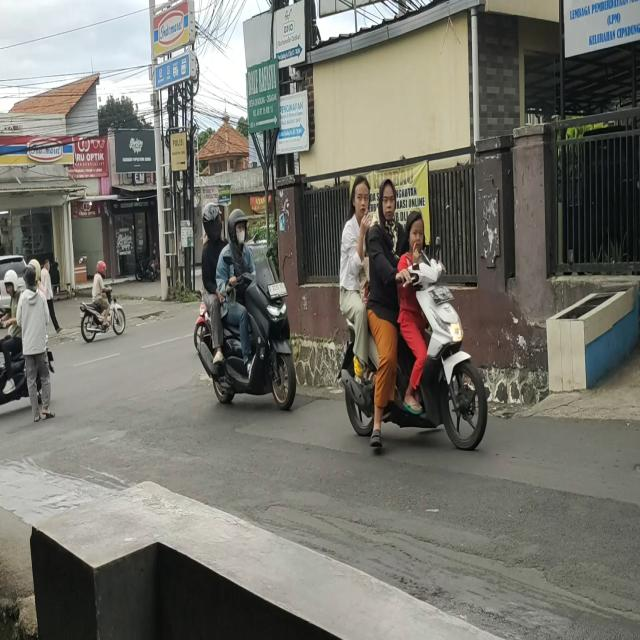helmet: (228, 208, 248, 246), (202, 206, 222, 240), (4, 270, 18, 293), (95, 259, 106, 276)
no-helmet: (353, 174, 369, 219), (407, 212, 425, 249), (379, 181, 396, 220)
